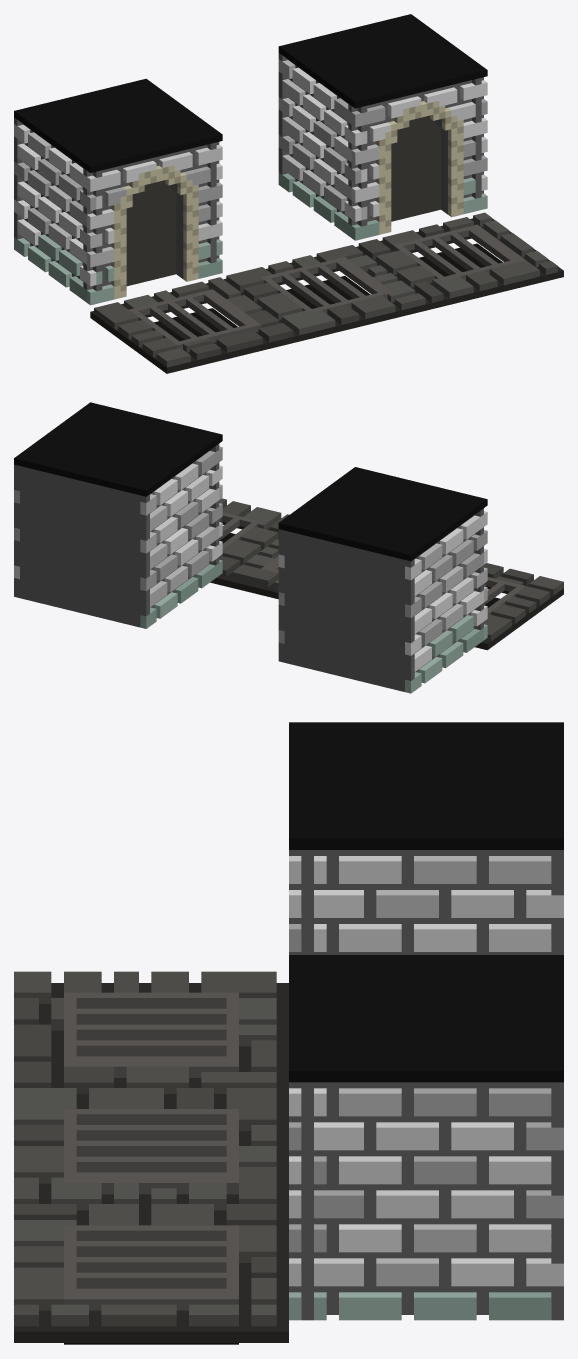
Rendered from setpiece_SewerBossExitRoom.SewerExit.glb.
3 views of the same model, one above another, from view 1: azimuth 30°, elevation 25°; view 2: azimuth 150°, elevation 25°; view 3: azimuth 270°, elevation 25° (orthographic). The views are drawn at different scales.
Visible parts, largest first — view 1: SewerExit_wall_R, SewerExit_wall_L, SewerExit_grate_0, SewerExit_grate_1, SewerExit_grate_2; view 2: SewerExit_wall_L, SewerExit_wall_R, SewerExit_grate_0, SewerExit_grate_2, SewerExit_grate_1; view 3: SewerExit_wall_R, SewerExit_wall_L, SewerExit_grate_2, SewerExit_grate_0, SewerExit_grate_1.
Boxes of the visible parts, <box> form: SewerExit_wall_R: <box>278,14,487,240</box>; SewerExit_wall_L: <box>14,78,222,305</box>; SewerExit_grate_0: <box>90,277,299,373</box>; SewerExit_grate_1: <box>224,245,431,341</box>; SewerExit_grate_2: <box>356,212,563,308</box>; SewerExit_wall_L: <box>278,467,487,693</box>; SewerExit_wall_R: <box>14,402,222,628</box>; SewerExit_grate_0: <box>475,563,563,650</box>; SewerExit_grate_2: <box>210,498,289,585</box>; SewerExit_grate_1: <box>222,539,278,599</box>; SewerExit_wall_R: <box>289,955,563,1320</box>; SewerExit_wall_L: <box>289,722,563,954</box>; SewerExit_grate_2: <box>14,1204,288,1344</box>; SewerExit_grate_0: <box>14,971,288,1099</box>; SewerExit_grate_1: <box>14,1088,288,1215</box>.
Size of the model in its own units: 3 by 1.18 by 2.
Materials: 5 (5 with a texture image).
